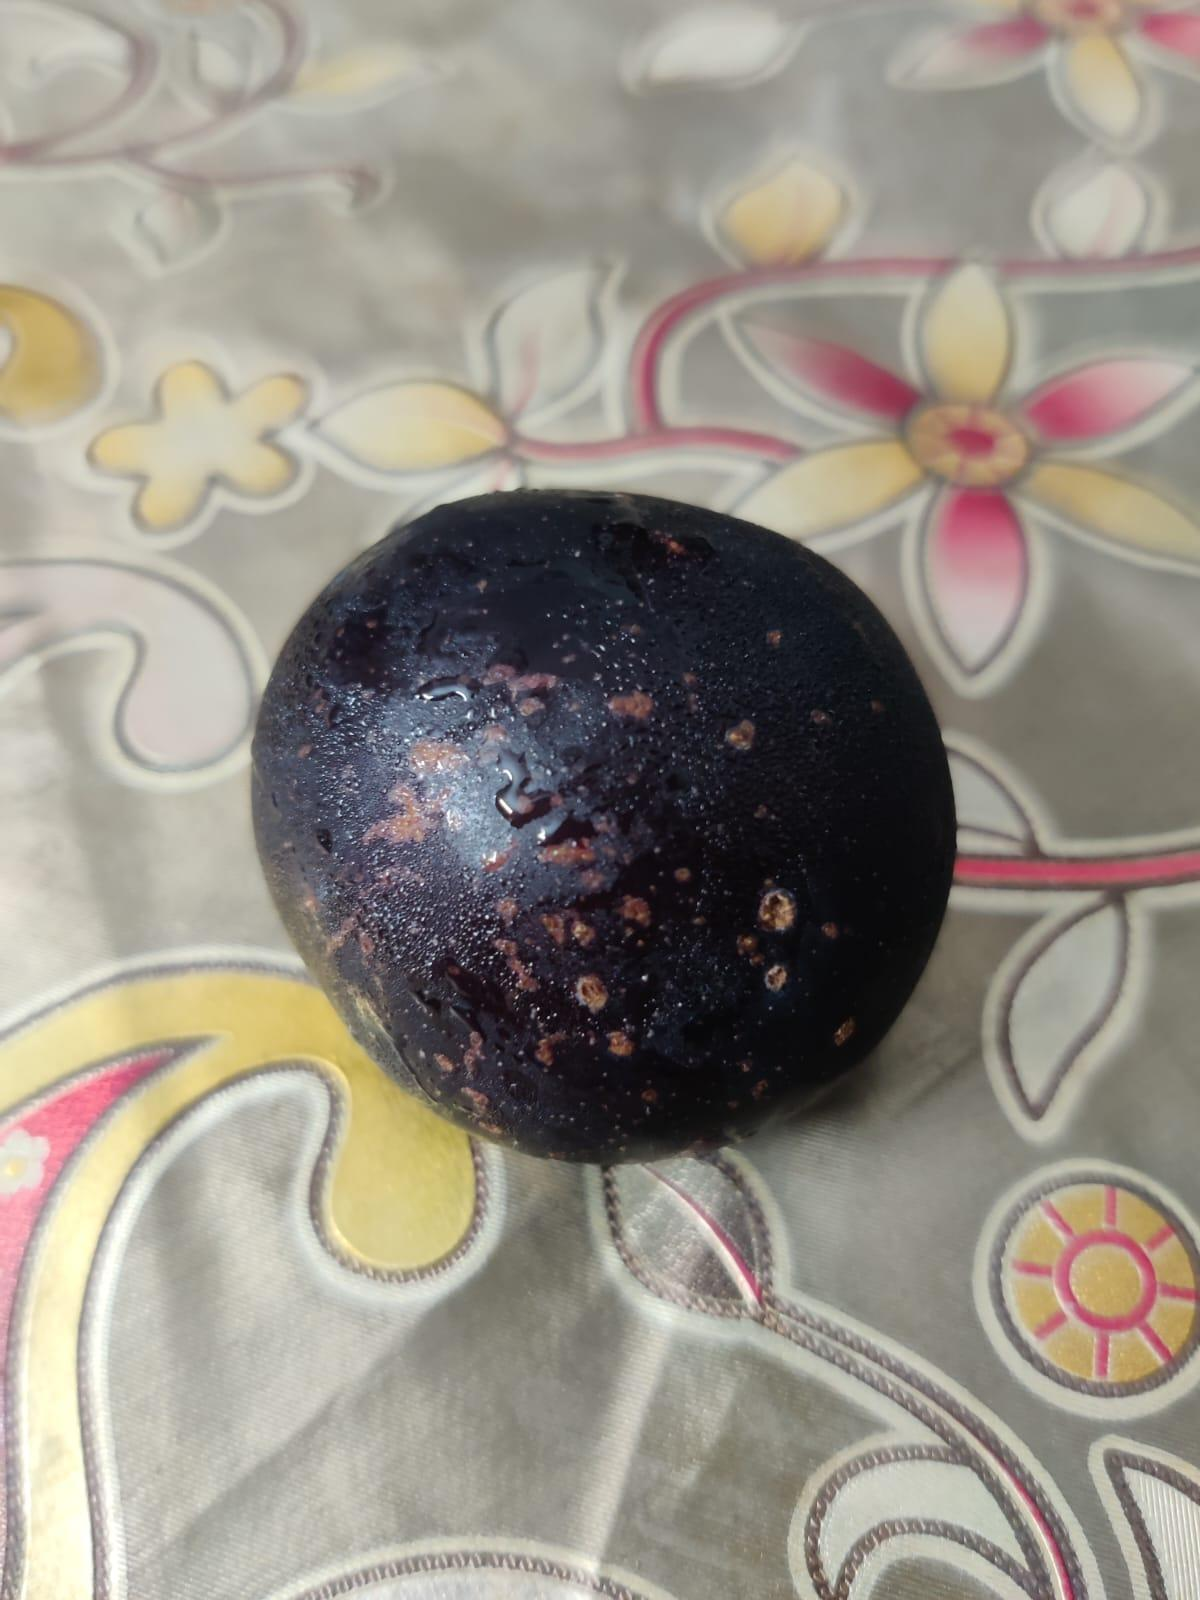non-mango: (250, 481, 961, 1144)
